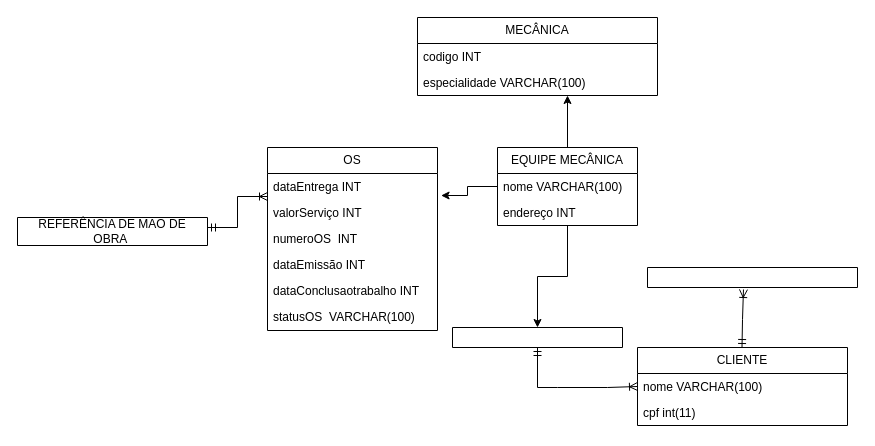
Image size: 875x446. Some labels were removed from this diagram. The shapes that lost their labels are listed below. From the top down, each one's centre as x and y in pixels, then its label:
the point at 752,277: VEÍCULOS
the point at 537,337: EXECUÇÃO DE SERVIÇOS
